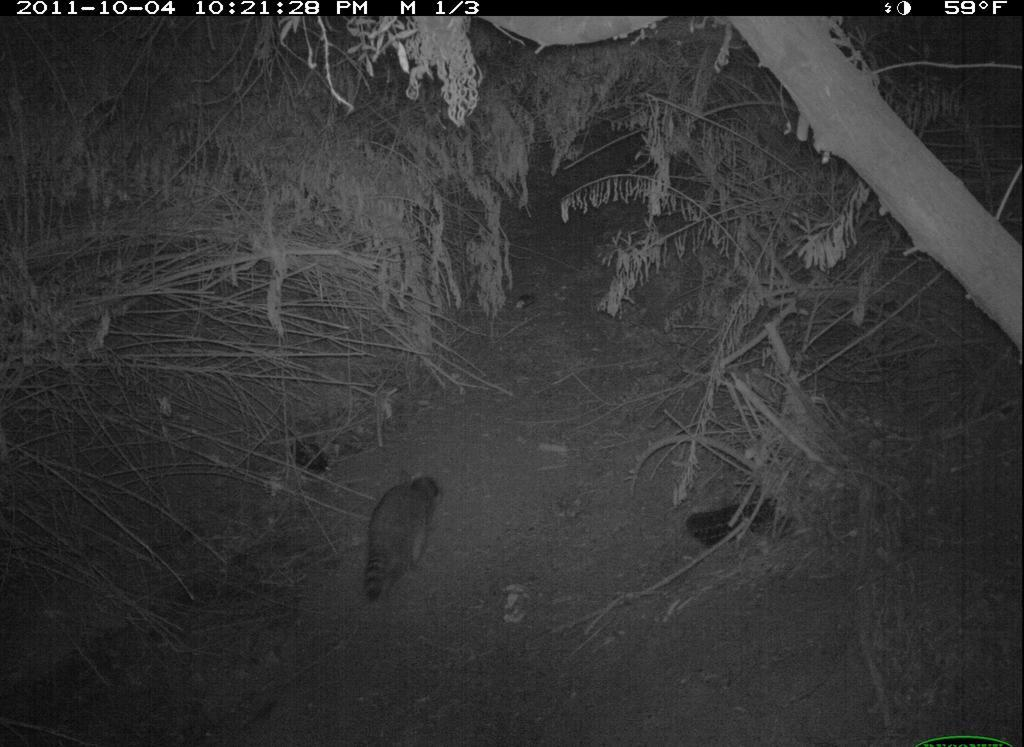raccoon: (358, 465, 447, 609)
